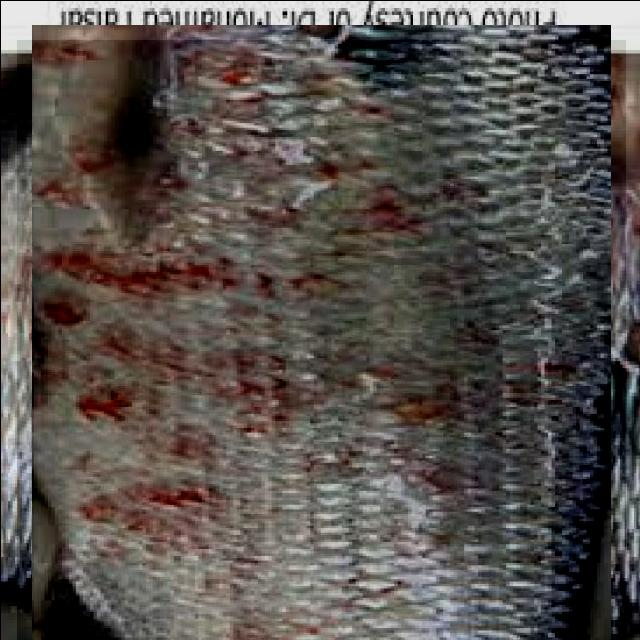EUS Disease: (16, 39, 625, 640)
